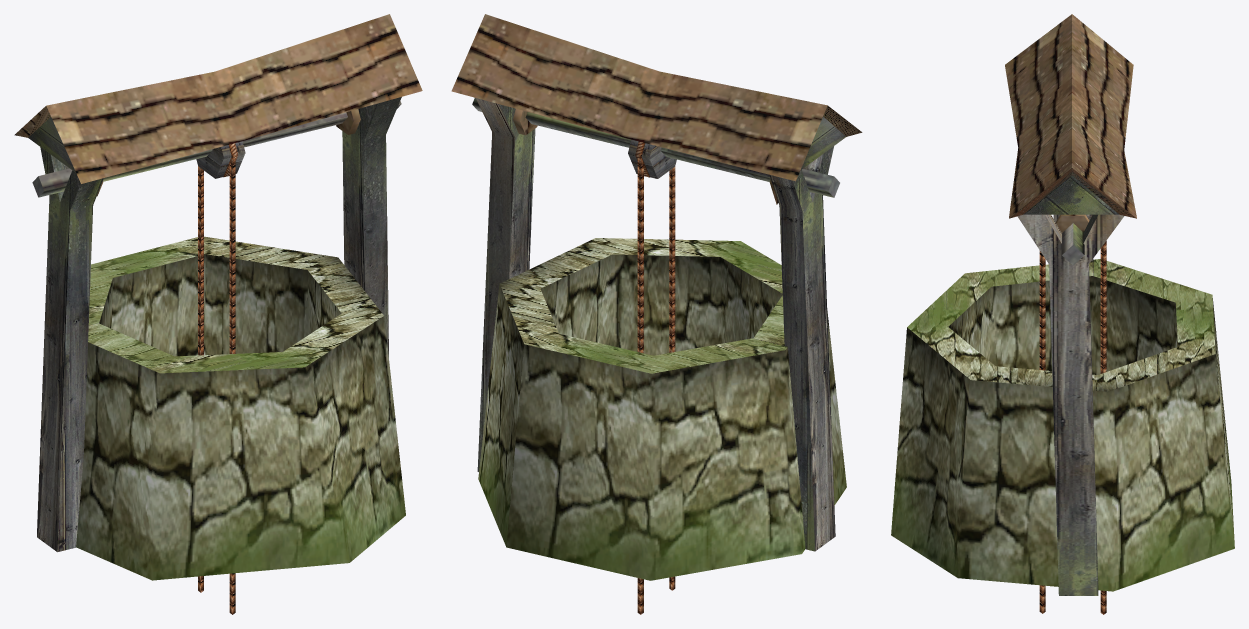
The model's file is building_well.glb.
The picture shows the model from 3 angles, left to right: view 1: azimuth 30°, elevation 25°; view 2: azimuth 150°, elevation 25°; view 3: azimuth 270°, elevation 25°; orthographic projection. The views are drawn at different scales.
Visible parts, largest first — view 1: building_well; view 2: building_well; view 3: building_well.
Part boxes in pixels (left/top/right/bottom): building_well: left=14, top=14, right=422, bottom=614; building_well: left=451, top=14, right=862, bottom=614; building_well: left=891, top=14, right=1234, bottom=614.
Size of the model in its own units: 2.1 by 3.08 by 1.82.
Materials: 4 (4 with a texture image).
